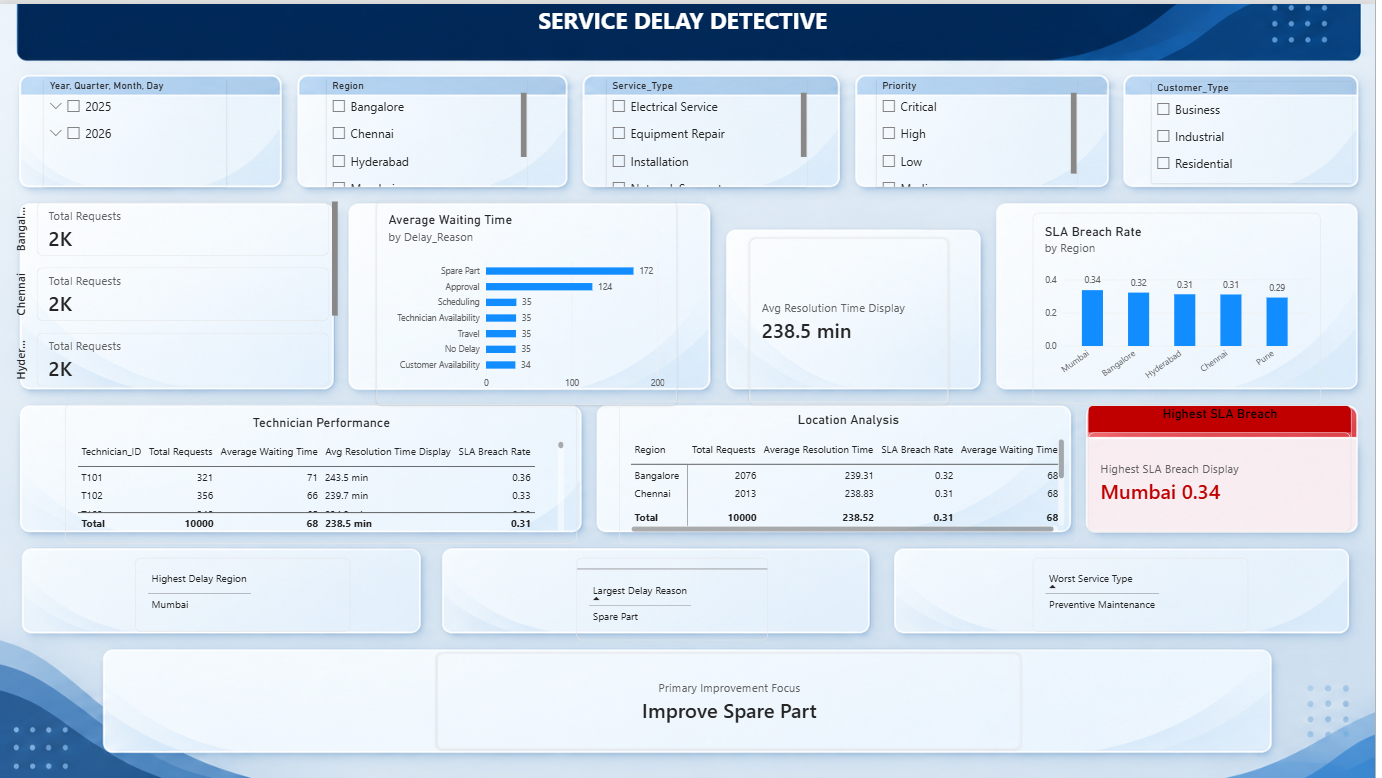

The page's visual inventory and layout, read from the dashboard file:
{"tool":"powerbi","page":{"name":"Management Recommendations","canvas":[1920,1080],"ordinal":4},"visuals":[{"type":"slicer","fields":{"Values":["Service_Delay_Detective_Dataset.Request_Date.Variation.Date Hierarchy.Year","Service_Delay_Detective_Dataset.Request_Date.Variation.Date Hierarchy.Quarter","Service_Delay_Detective_Dataset.Request_Date.Variation.Date Hierarchy.Month","Service_Delay_Detective_Dataset.Request_Date.Variation.Date Hierarchy.Day"]},"box":[62.8,104.7,254.7,150],"z":0},{"type":"slicer","fields":{"Values":["Service_Delay_Detective_Dataset.Region"]},"box":[457,104.7,279.1,150],"z":1000},{"type":"slicer","fields":{"Values":["Service_Delay_Detective_Dataset.Service_Type"]},"box":[847.7,104.7,279.1,150],"z":2000},{"type":"slicer","fields":{"Values":["Service_Delay_Detective_Dataset.Priority"]},"box":[1224.4,104.7,279.1,150],"z":3000},{"type":"slicer","fields":{"Values":["Service_Delay_Detective_Dataset.Customer_Type"]},"box":[1608.1,108.1,279.4,141.9],"z":4000},{"type":"cardVisual","fields":{"Data":["Service_Delay_Detective_Dataset.Total Requests"],"Rows":["Service_Delay_Detective_Dataset.Region"]},"box":[17.4,275.6,455.2,265.1],"z":5000},{"type":"clusteredBarChart","fields":{"Category":["Service_Delay_Detective_Dataset.Delay_Reason"],"Y":["Service_Delay_Detective_Dataset.Average Waiting Time"]},"box":[526.7,275.6,419.1,283.9],"z":6000},{"type":"clusteredColumnChart","fields":{"Y":["Service_Delay_Detective_Dataset.SLA Breach Rate"],"Category":["Service_Delay_Detective_Dataset.Region"]},"box":[1442.4,291.3,401.4,266.1],"z":7000},{"type":"textbox","box":[17.4,0,1882,80.2],"z":8000},{"type":"tableEx","fields":{"Values":["Service_Delay_Detective_Dataset.Highest Delay Region"]},"box":[190.1,772.7,300,102.9],"z":9000},{"type":"tableEx","fields":{"Values":["Service_Delay_Detective_Dataset.Largest Delay Reason"]},"box":[805.8,772.7,266.9,115.1],"z":10000},{"type":"tableEx","fields":{"Values":["Service_Delay_Detective_Dataset.Worst Service Type"]},"box":[1442.4,772.7,300.4,103],"z":11000},{"type":"cardVisual","fields":{"Data":["Service_Delay_Detective_Dataset.Avg Resolution Time Display"]},"box":[1046.5,326.2,279.4,232.8],"z":12000},{"type":"tableEx","title":"Technician Performance","fields":{"Values":["Service_Delay_Detective_Dataset.Technician_ID","Service_Delay_Detective_Dataset.Total Requests","Service_Delay_Detective_Dataset.Average Waiting Time","Service_Delay_Detective_Dataset.Avg Resolution Time Display","Service_Delay_Detective_Dataset.SLA Breach Rate"]},"box":[92.4,558.1,713.4,195.3],"z":13000},{"type":"pivotTable","title":"Location Analysis","fields":{"Values":["Service_Delay_Detective_Dataset.Total Requests","Service_Delay_Detective_Dataset.Average Resolution Time","Service_Delay_Detective_Dataset.SLA Breach Rate","Service_Delay_Detective_Dataset.Average Waiting Time"],"Rows":["Service_Delay_Detective_Dataset.Region"]},"box":[865.1,554.7,638.7,199.6],"z":14000},{"type":"cardVisual","fields":{"Data":["Service_Delay_Detective_Dataset.Primary Improvement Focus"]},"box":[610.5,905.2,816.1,135.3],"z":15000},{"type":"cardVisual","title":"Highest SLA Breach","fields":{"Data":["Service_Delay_Detective_Dataset.Highest SLA Breach Display"]},"box":[1519.2,559.9,368,177.9],"z":16000}]}

Visuals, with their boxes in screenshot pixels (x1, y1, x2, y2), scaled from the page's 1920x1080 canvas onto the 1382x778 screenshot:
slicer - Service_Delay_Detective_Dataset.Request_Date.Variation.Date Hierarchy.Year x Service_Delay_Detective_Dataset.Request_Date.Variation.Date Hierarchy.Quarter: 45, 75, 229, 183
slicer - Service_Delay_Detective_Dataset.Region: 329, 75, 530, 183
slicer - Service_Delay_Detective_Dataset.Service_Type: 610, 75, 811, 183
slicer - Service_Delay_Detective_Dataset.Priority: 881, 75, 1082, 183
slicer - Service_Delay_Detective_Dataset.Customer_Type: 1157, 78, 1359, 180
cardVisual - Service_Delay_Detective_Dataset.Total Requests x Service_Delay_Detective_Dataset.Region: 13, 199, 340, 390
clusteredBarChart - Service_Delay_Detective_Dataset.Delay_Reason x Service_Delay_Detective_Dataset.Average Waiting Time: 379, 199, 681, 403
clusteredColumnChart - Service_Delay_Detective_Dataset.SLA Breach Rate x Service_Delay_Detective_Dataset.Region: 1038, 210, 1327, 402
textbox: 13, 0, 1367, 58
tableEx - Service_Delay_Detective_Dataset.Highest Delay Region: 137, 557, 353, 631
tableEx - Service_Delay_Detective_Dataset.Largest Delay Reason: 580, 557, 772, 640
tableEx - Service_Delay_Detective_Dataset.Worst Service Type: 1038, 557, 1254, 631
cardVisual - Service_Delay_Detective_Dataset.Avg Resolution Time Display: 753, 235, 954, 403
"Technician Performance" tableEx: 67, 402, 580, 543
"Location Analysis" pivotTable: 623, 400, 1082, 543
cardVisual - Service_Delay_Detective_Dataset.Primary Improvement Focus: 439, 652, 1027, 750
"Highest SLA Breach" cardVisual: 1094, 403, 1358, 531
